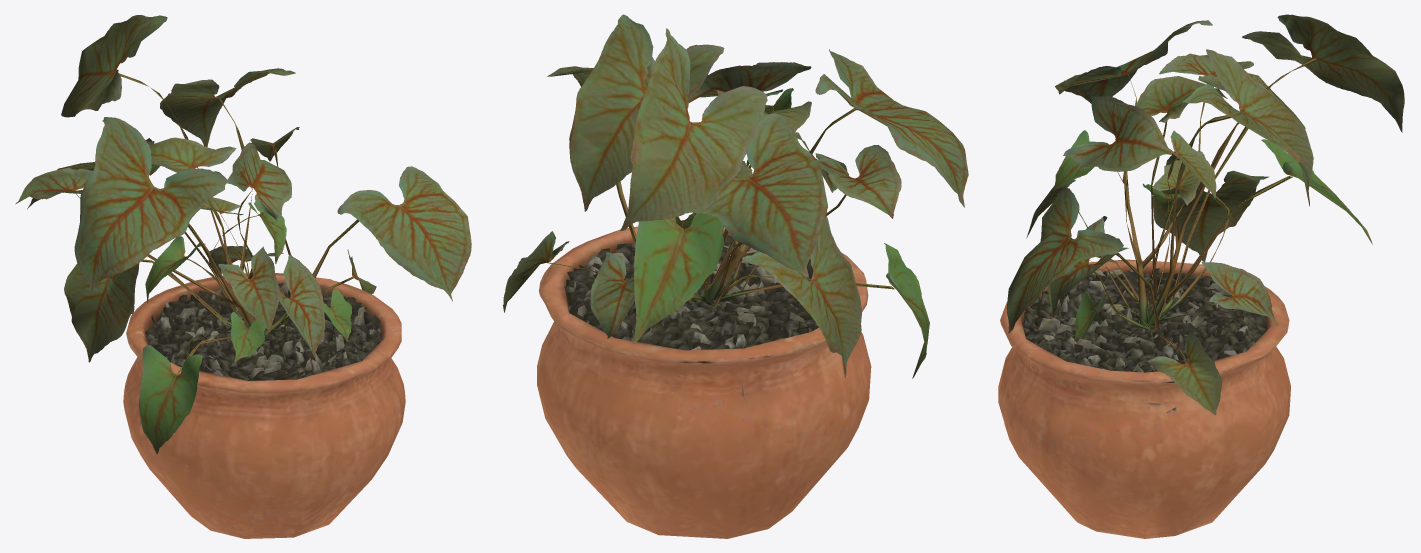
File: potted_plant.glb
3 views of the same model, side by side, from view 1: azimuth 30°, elevation 25°; view 2: azimuth 150°, elevation 25°; view 3: azimuth 270°, elevation 25° (orthographic). The views are drawn at different scales.
Parts seen in each view (by area): view 1: leaves, pot, dirt; view 2: leaves, pot, dirt; view 3: leaves, pot, dirt.
Part boxes in pixels (left/top/right/bottom): leaves: left=15, top=15, right=471, bottom=454; pot: left=123, top=273, right=405, bottom=538; dirt: left=145, top=283, right=383, bottom=380; leaves: left=503, top=14, right=968, bottom=378; pot: left=537, top=220, right=871, bottom=538; dirt: left=564, top=235, right=818, bottom=350; leaves: left=1006, top=14, right=1404, bottom=415; pot: left=998, top=259, right=1290, bottom=538; dirt: left=1022, top=268, right=1266, bottom=372.
Bounding box in the file's own units: 0.7012 × 0.8395 × 0.6553.
2 materials, 2 textured.
